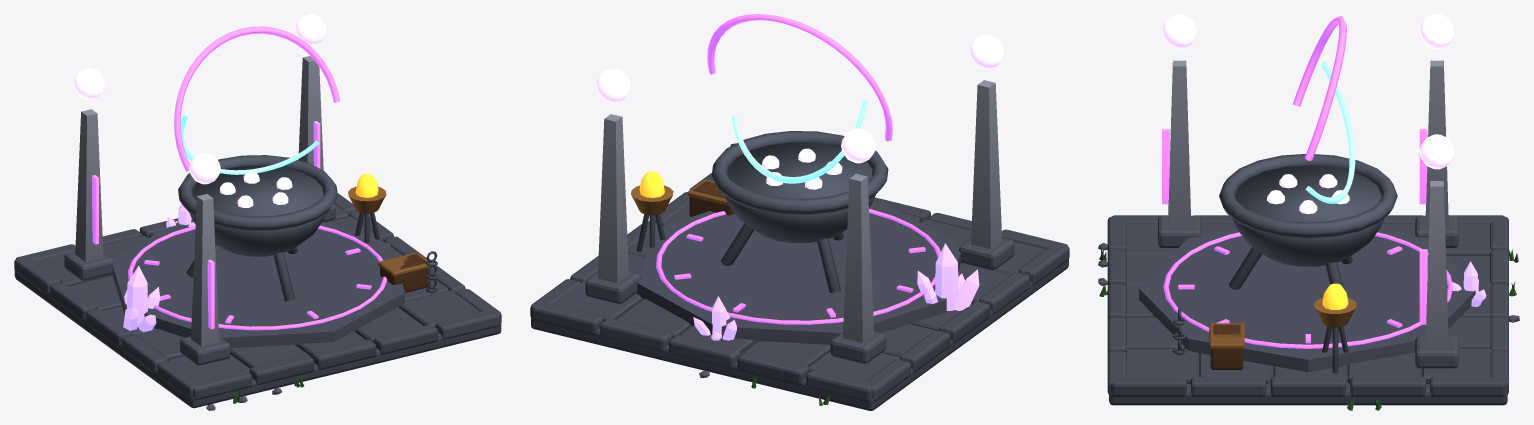
The model's file is fusion_forge.glb.
3 renders of one model, left to right at view 1: azimuth 30°, elevation 25°; view 2: azimuth 150°, elevation 25°; view 3: azimuth 270°, elevation 25°, orthographic. The views are drawn at different scales.
Parts seen in each view (by area): view 1: t0_stone_dark, t0_iron, t0_stone, t0_brew_violet, arcs_t0_spinY45_brew_violet, t3_crystal_violet, t0_wood_dark, brew_t0_bob3_glow_violet, orb12_t0_bob10_glow_violet, orb6_t0_bob10_glow_violet, orb33_t0_bob10_glow_violet, arcs_t0_spinY45_rune (+4 smaller); view 2: t0_stone_dark, t0_iron, t0_stone, t0_brew_violet, t3_crystal_violet, arcs_t0_spinY45_brew_violet, arcs_t0_spinY45_rune, orb33_t0_bob10_glow_violet, orb12_t0_bob10_glow_violet, orb6_t0_bob10_glow_violet, t1_crystal_violet, t0_wood_dark (+4 smaller); view 3: t0_stone_dark, t0_iron, t0_stone, t0_brew_violet, arcs_t0_spinY45_brew_violet, arcs_t0_spinY45_rune, t0_wood_dark, brew_t0_bob3_glow_violet, orb33_t0_bob10_glow_violet, orb12_t0_bob10_glow_violet, orb6_t0_bob10_glow_violet, t2_bronze (+5 smaller).
Boxes of the visible parts, left/top/right/bottom form: t0_stone_dark: left=14, top=193, right=501, bottom=408; t0_iron: left=178, top=155, right=437, bottom=301; t0_stone: left=75, top=56, right=323, bottom=346; t0_brew_violet: left=92, top=121, right=387, bottom=330; arcs_t0_spinY45_brew_violet: left=174, top=26, right=339, bottom=171; t3_crystal_violet: left=123, top=265, right=160, bottom=332; t0_wood_dark: left=380, top=254, right=430, bottom=292; brew_t0_bob3_glow_violet: left=220, top=171, right=292, bottom=207; orb12_t0_bob10_glow_violet: left=73, top=68, right=104, bottom=99; orb6_t0_bob10_glow_violet: left=189, top=153, right=220, bottom=184; orb33_t0_bob10_glow_violet: left=295, top=14, right=326, bottom=45; arcs_t0_spinY45_rune: left=180, top=115, right=319, bottom=174; t0_stone_dark: left=530, top=173, right=1069, bottom=410; t0_iron: left=711, top=131, right=888, bottom=292; t0_stone: left=597, top=80, right=1002, bottom=342; t0_brew_violet: left=656, top=209, right=940, bottom=324; t3_crystal_violet: left=917, top=243, right=979, bottom=310; arcs_t0_spinY45_brew_violet: left=707, top=14, right=892, bottom=141; arcs_t0_spinY45_rune: left=731, top=99, right=867, bottom=183; orb33_t0_bob10_glow_violet: left=596, top=68, right=630, bottom=103; orb12_t0_bob10_glow_violet: left=841, top=128, right=875, bottom=163; orb6_t0_bob10_glow_violet: left=969, top=34, right=1003, bottom=69; t1_crystal_violet: left=693, top=296, right=736, bottom=340; t0_wood_dark: left=689, top=181, right=734, bottom=216; t0_stone_dark: left=1107, top=215, right=1508, bottom=405; t0_iron: left=1172, top=154, right=1397, bottom=354; t0_stone: left=1168, top=60, right=1448, bottom=348; t0_brew_violet: left=1162, top=129, right=1452, bottom=348; arcs_t0_spinY45_brew_violet: left=1293, top=16, right=1346, bottom=160; arcs_t0_spinY45_rune: left=1305, top=61, right=1355, bottom=203; t0_wood_dark: left=1210, top=324, right=1243, bottom=369; brew_t0_bob3_glow_violet: left=1267, top=174, right=1349, bottom=214; orb33_t0_bob10_glow_violet: left=1419, top=134, right=1454, bottom=169; orb12_t0_bob10_glow_violet: left=1419, top=14, right=1454, bottom=48; orb6_t0_bob10_glow_violet: left=1162, top=14, right=1197, bottom=49; t2_bronze: left=1314, top=297, right=1356, bottom=327.
Size of the model in its own units: 3.02 by 2.43 by 3.11.
